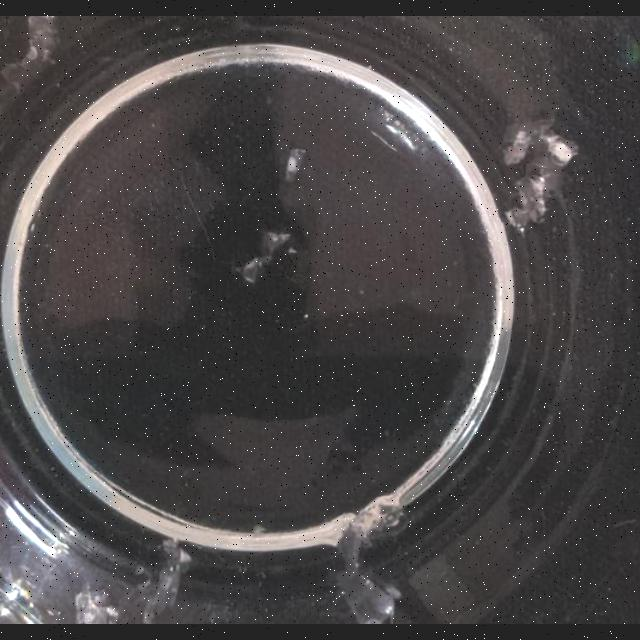Fibre: (327, 490, 408, 624), (495, 126, 581, 234), (0, 15, 60, 93), (141, 538, 189, 624), (236, 230, 294, 284), (506, 170, 552, 226), (74, 586, 124, 624), (284, 148, 308, 182)
